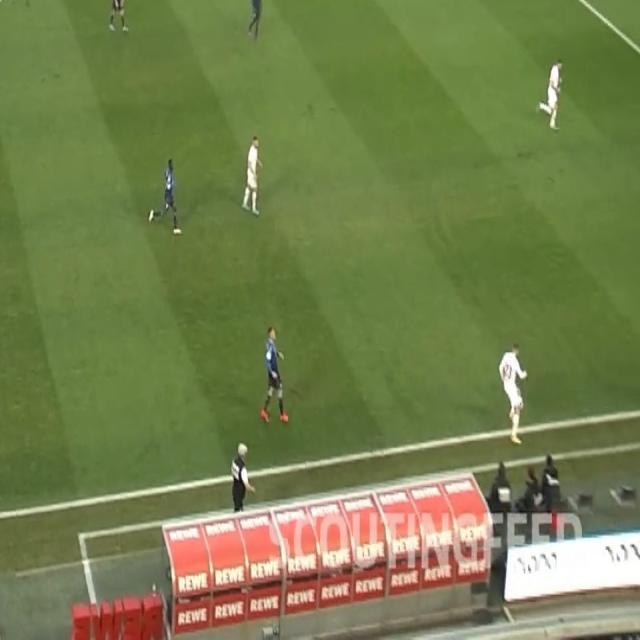ball: (515, 395, 525, 412)
